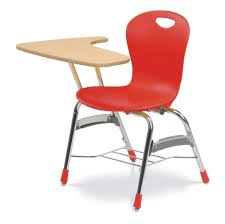desk_013.jpg: (13, 11, 215, 214)
